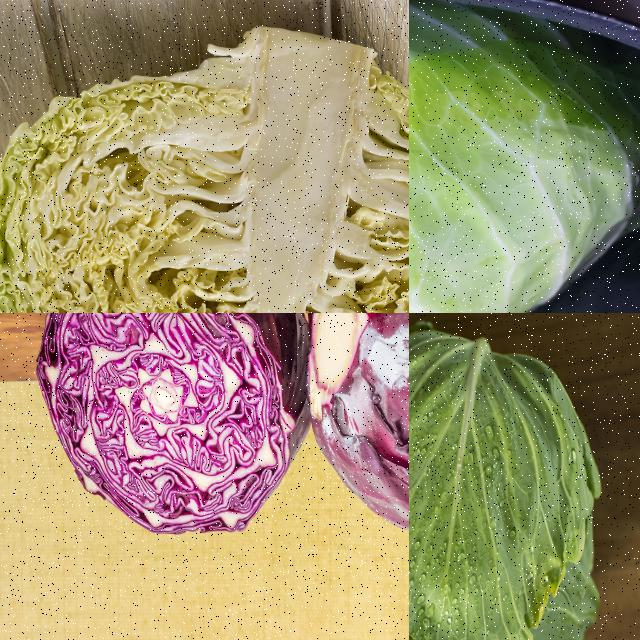cabbage: (0, 21, 408, 312), (409, 0, 639, 312), (409, 313, 610, 639), (41, 313, 309, 539), (307, 313, 408, 540)
